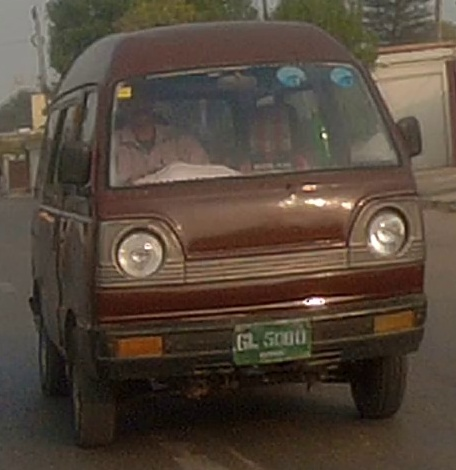van: (28, 20, 426, 449)
